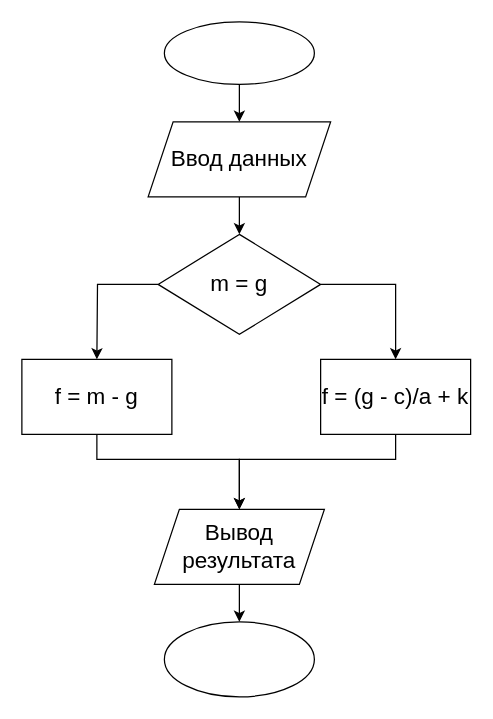
Image size: 493x719. Some labels were removed from this diagram. Each missing label, with the centre of its shape:
"конец" goes at [238,659].
"Начало" goes at [238,52].
